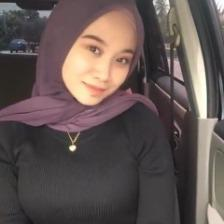Non Syar-i: (0, 0, 158, 132)
